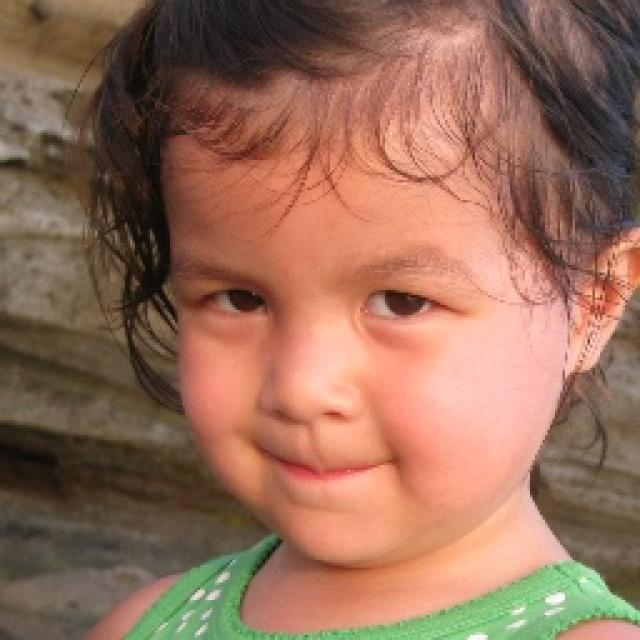earlobe: (566, 229, 640, 376)
